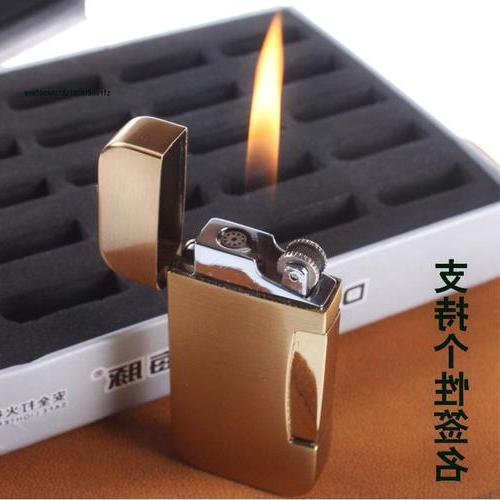fire: (226, 1, 312, 235)
